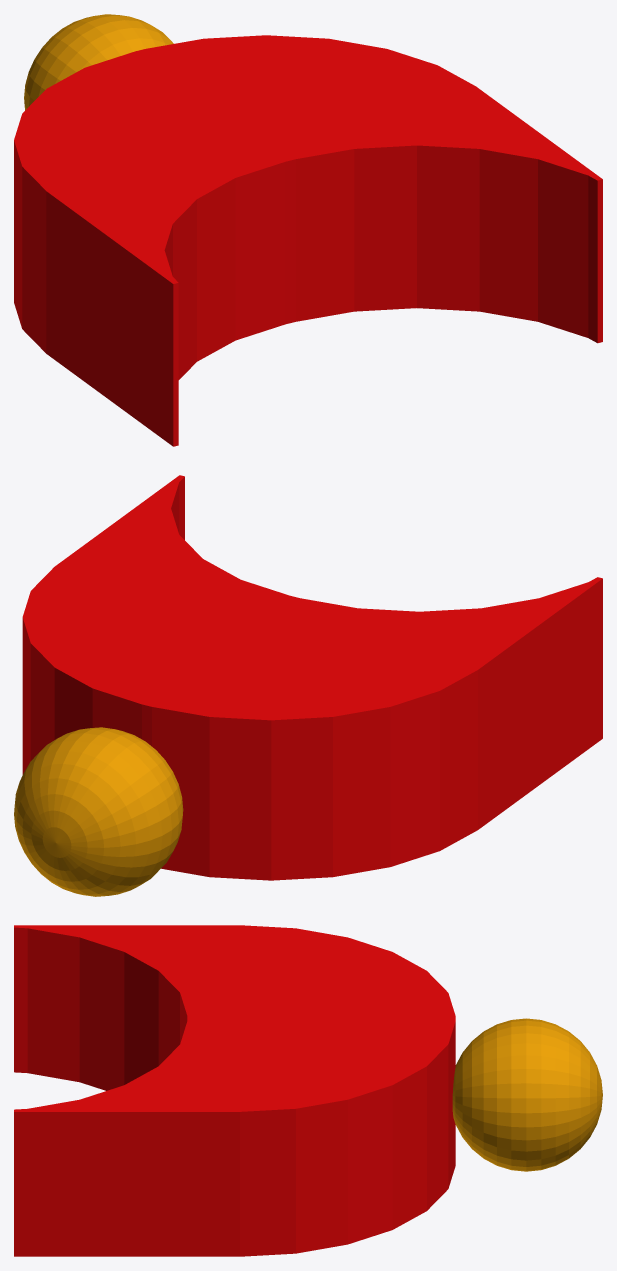
Rendered from nor.fbx.
The picture shows the model from 3 angles, top to bottom: view 1: azimuth 30°, elevation 25°; view 2: azimuth 150°, elevation 25°; view 3: azimuth 270°, elevation 25°; orthographic projection. The views are drawn at different scales.
Visible parts, largest first — view 1: Cube.002; view 2: Cube.002; view 3: Cube.002.
Part boxes in pixels (box(x1,y1,x2,y2)): Cube.002: box(14, 14, 602, 446); Cube.002: box(14, 475, 602, 896); Cube.002: box(14, 925, 602, 1256).
Bounding box in the file's own units: 200 × 72.36 × 267.
